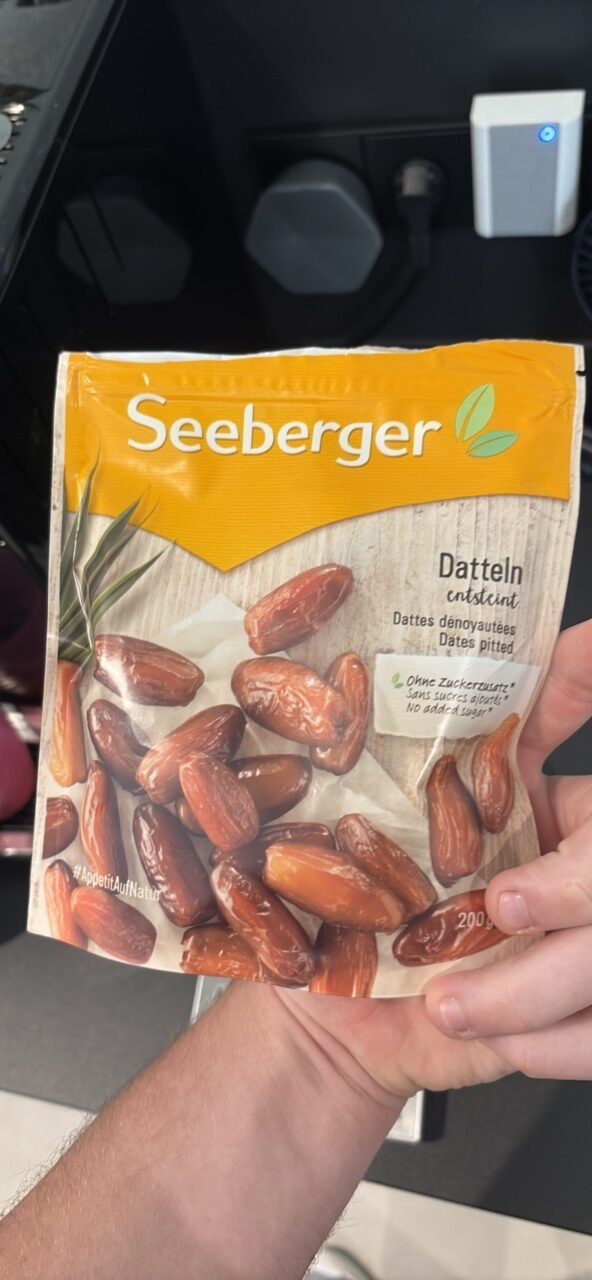Datteln entsteint / Dates pitted: (30, 64, 562, 1216)
